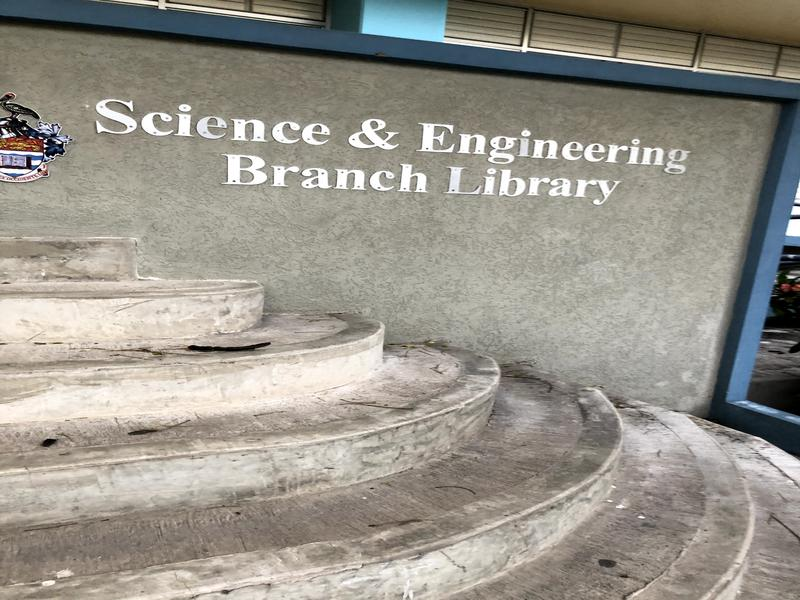18.0053644_-76.7493880_librarysign: (89, 87, 707, 268)
